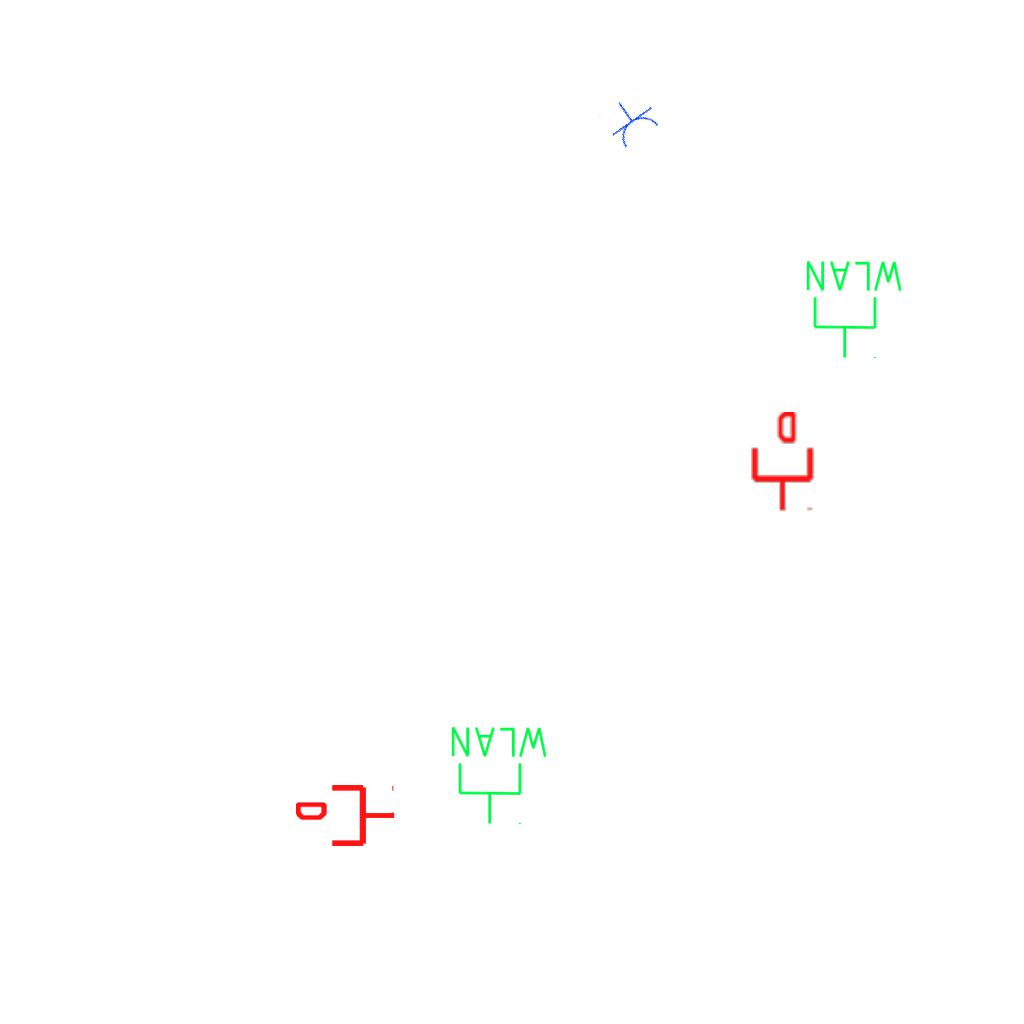Datenanschluss_einfach: (748, 412, 817, 512), (296, 781, 396, 850)
Schukosteckdose_einfach: (598, 88, 664, 153)
WLAN: (447, 723, 552, 827), (802, 257, 907, 361)
